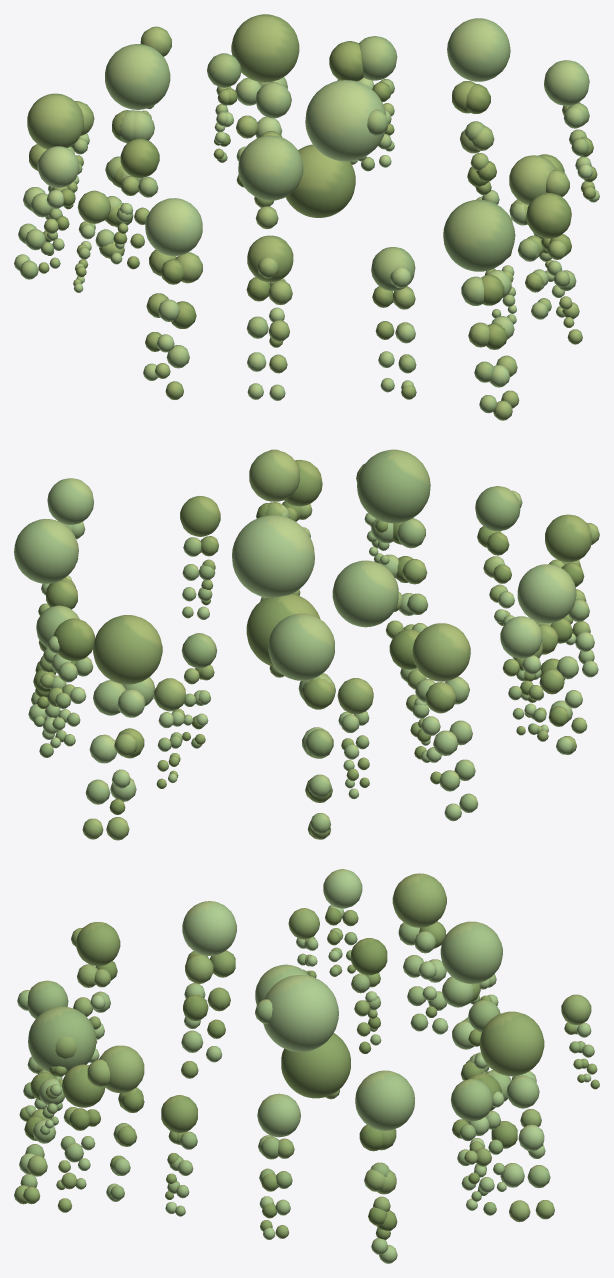
Rendered from colony-tree.obj.
3 renders of one model, top to bottom at view 1: azimuth 30°, elevation 25°; view 2: azimuth 150°, elevation 25°; view 3: azimuth 270°, elevation 25°, orthographic. The views are drawn at different scales.
Visible parts, largest first — view 1: tree; view 2: tree; view 3: tree.
Part boxes in pixels (x1,y1,x2,y2): tree: (14,14,599,420); tree: (14,449,599,840); tree: (14,869,599,1263).
Bounding box in the file's own units: 911 × 393 × 925.
